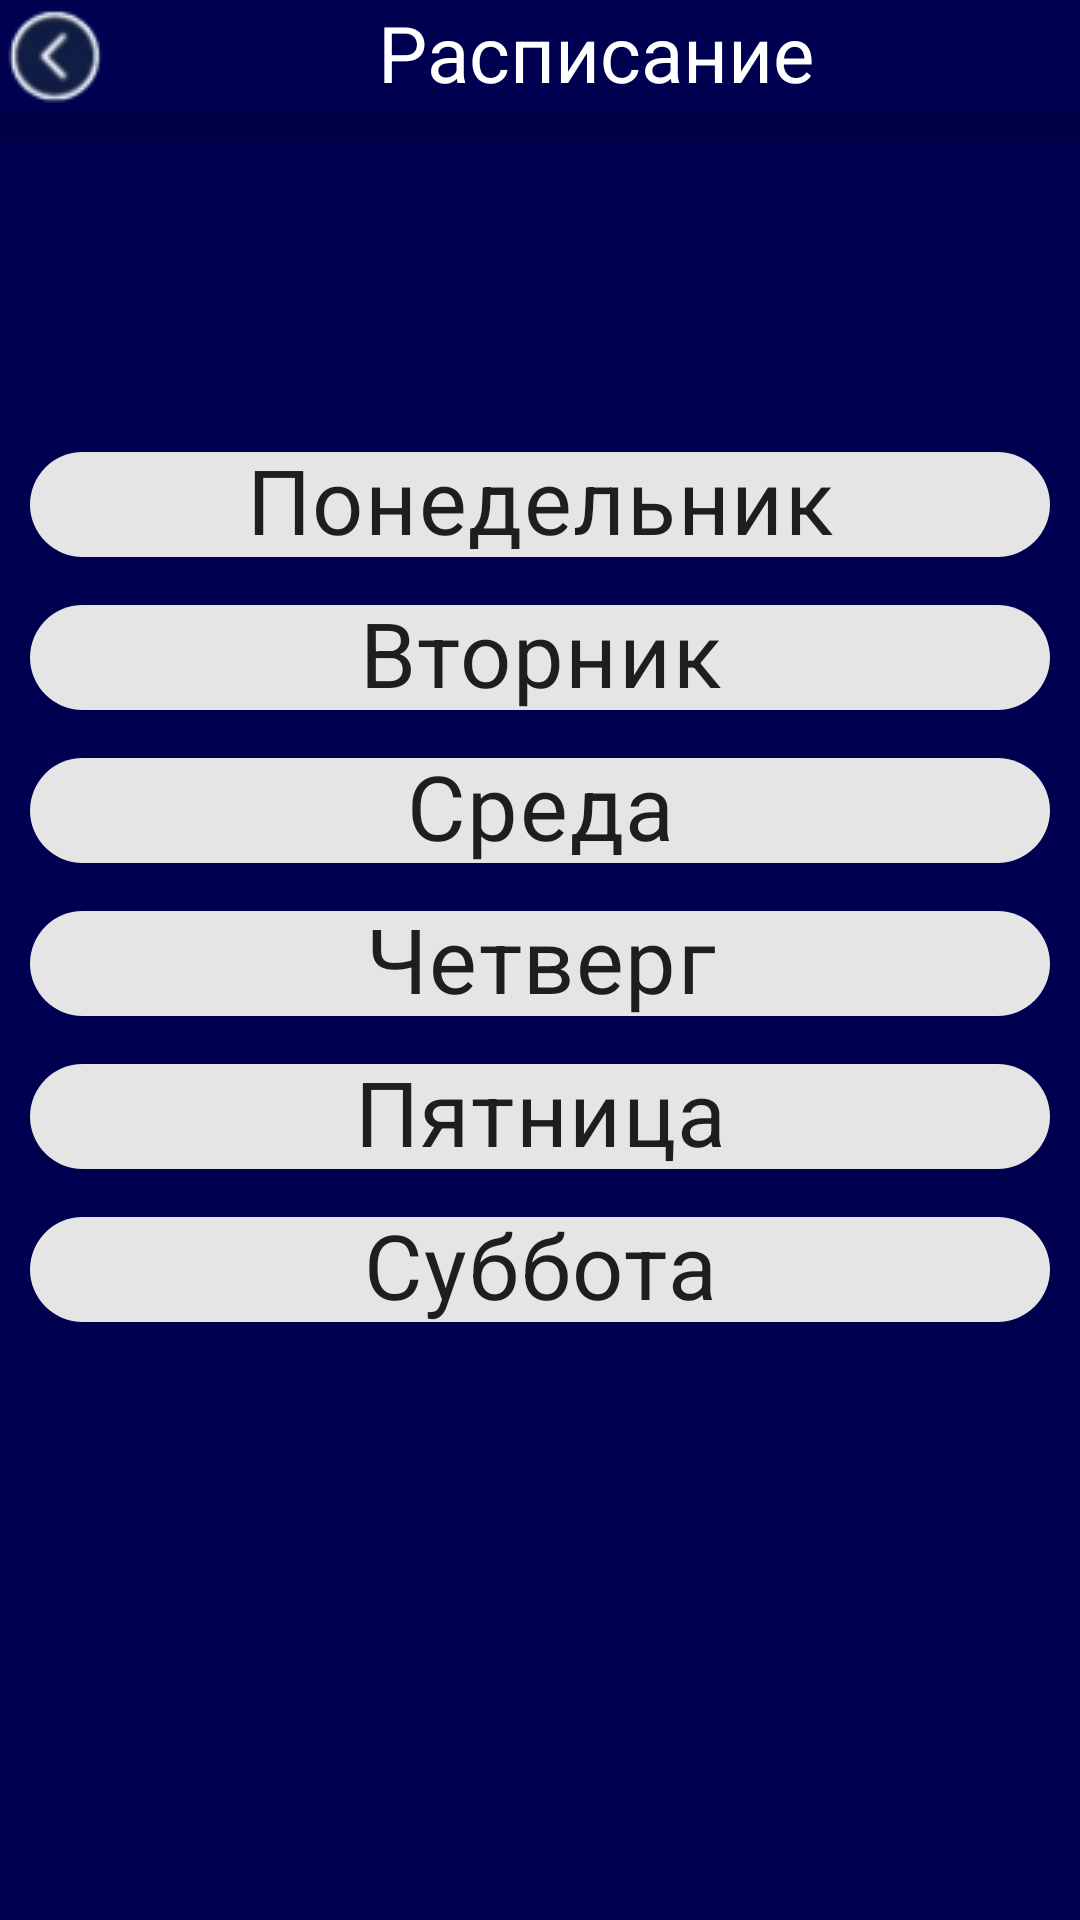

Icon bounding boxes for this 1080×1920 phone screenshot, format bbox=[x1, y1, x2, y2]:
backbutton: bbox=[9, 11, 101, 102]
